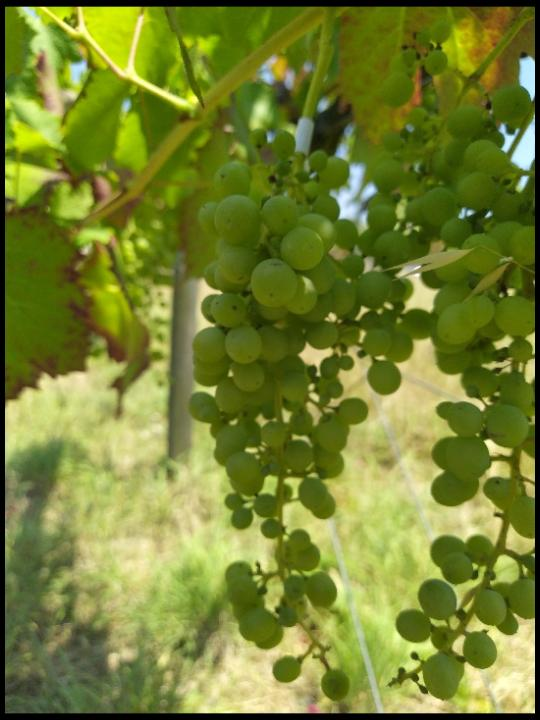grape: (187, 127, 432, 701)
